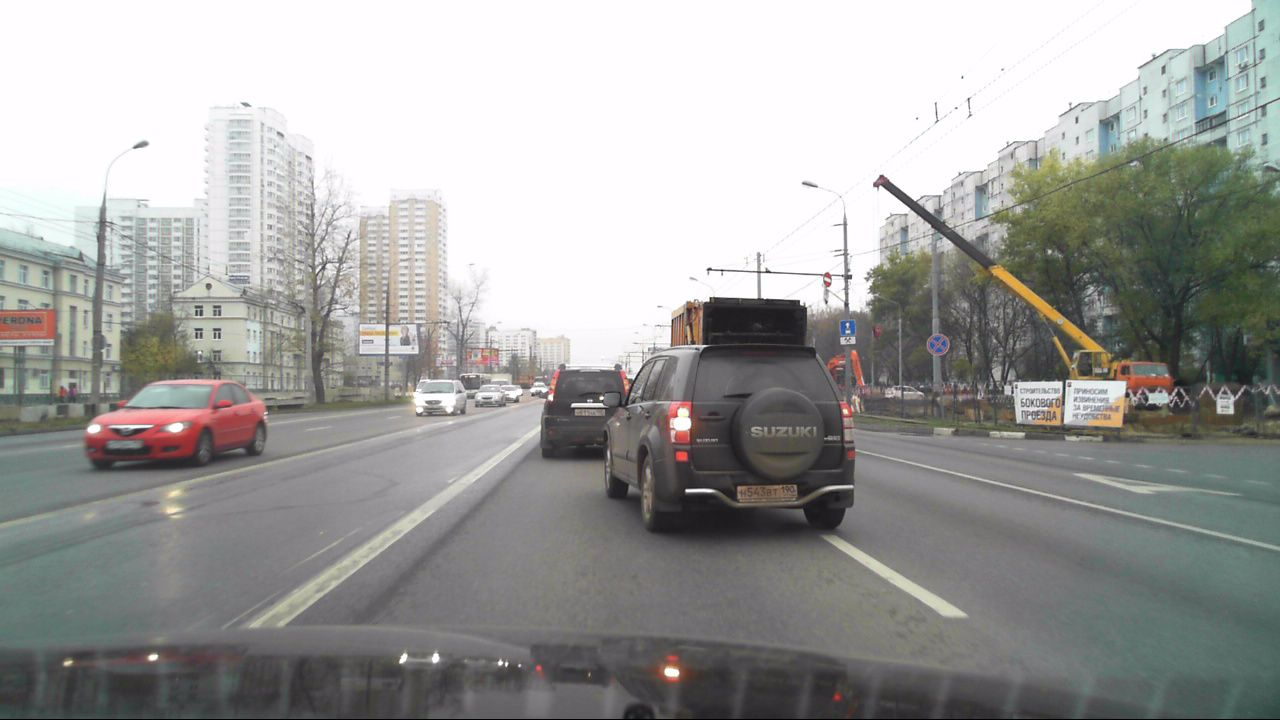No Parking: (927, 333, 950, 356)
